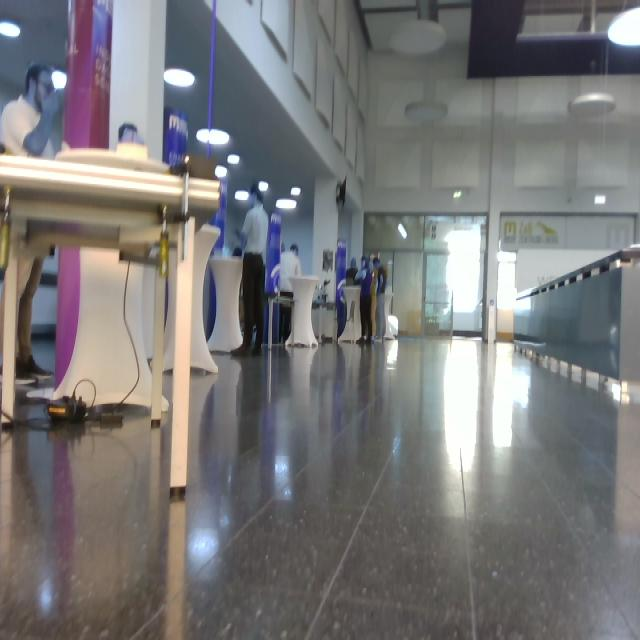door: (423, 214, 487, 337)
light bulb: (390, 18, 447, 56), (608, 6, 640, 48), (569, 92, 616, 118), (405, 101, 448, 122), (164, 68, 195, 88), (196, 128, 230, 146), (1, 20, 21, 38), (52, 69, 68, 90), (276, 199, 297, 211), (398, 222, 408, 240), (215, 165, 228, 178), (235, 190, 249, 201), (228, 154, 240, 165), (259, 181, 269, 192), (291, 186, 302, 196)
person: (1, 64, 63, 384), (230, 186, 269, 357), (279, 243, 302, 343)
staircase: (512, 245, 640, 398)
table: (2, 146, 224, 501)
tiled floor: (2, 333, 639, 638)
